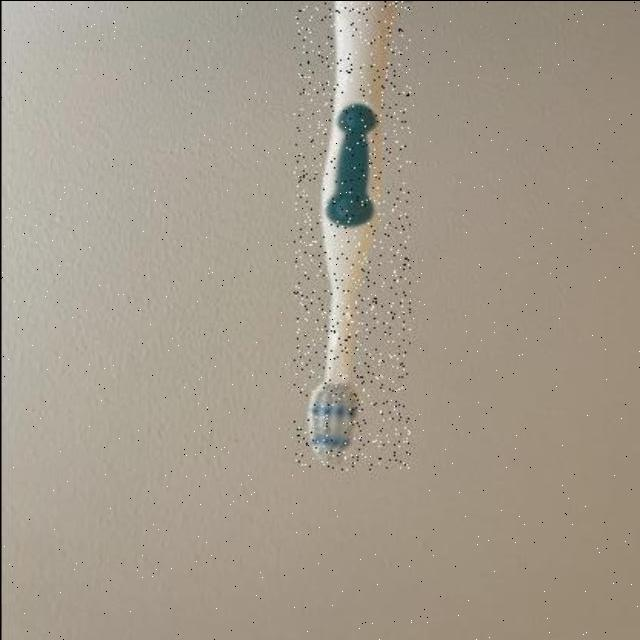toothbrush: (293, 1, 409, 470)
